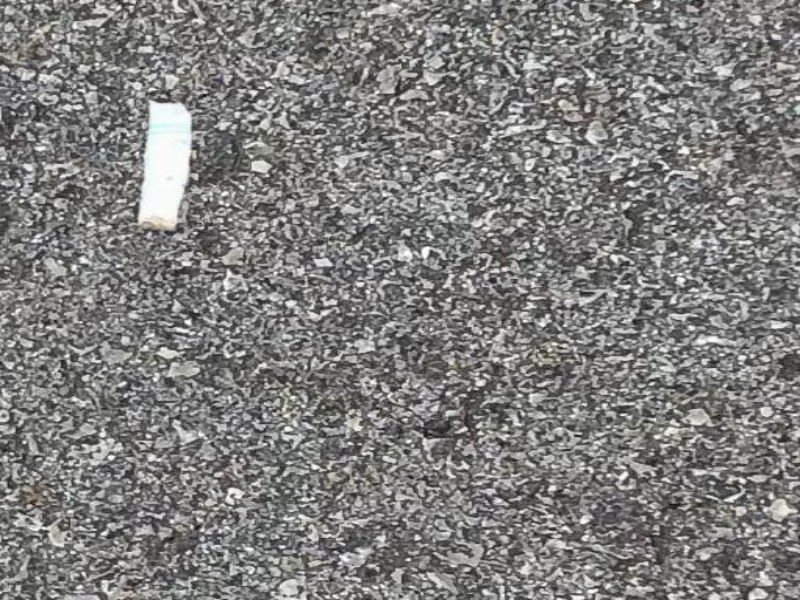cig: (139, 93, 188, 237)
